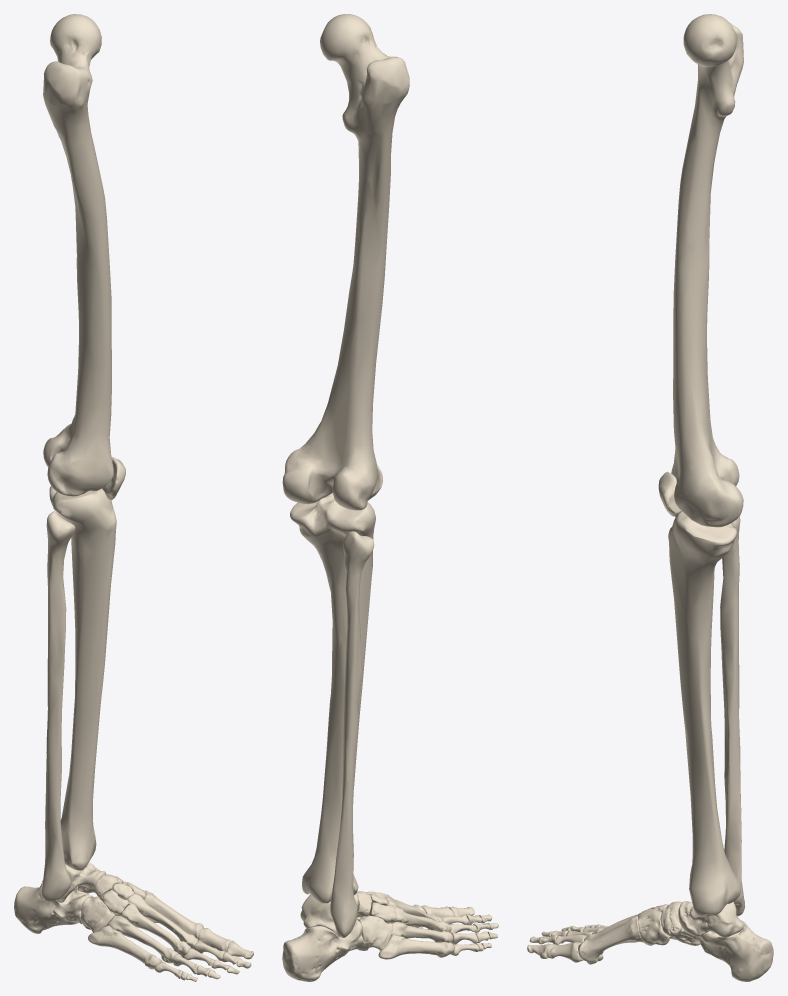
File: skeletal.lower_limb_right.glb
The picture shows the model from 3 angles, left to right: view 1: azimuth 90°, elevation 25°; view 2: azimuth 150°, elevation 25°; view 3: azimuth 270°, elevation 25°; orthographic projection. The views are drawn at different scales.
Parts seen in each view (by area): view 1: right_femur, right_tibia, right_fibula, right_calcaneus, right_fifth_metatarsal_bone, right_third_metatarsal_bone, right_fourth_metatarsal_bone, right_cuboid_bone, right_first_metatarsal_bone, right_second_metatarsal_bone, right_talus; view 2: right_femur, right_tibia, right_fibula, right_calcaneus, right_fifth_metatarsal_bone, right_cuboid_bone, right_talus, right_fourth_metatarsal_bone, right_third_metatarsal_bone; view 3: right_femur, right_tibia, right_fibula, right_calcaneus, right_talus, right_first_metatarsal_bone, right_medial_cuneiform_bone, right_patella, navicular_bone_of_right_foot.
Boxes of the visible parts, x1,y1,x2,y2 form: right_femur: [43, 14, 113, 496]; right_tibia: [49, 486, 116, 870]; right_fibula: [42, 511, 75, 901]; right_calcaneus: [14, 882, 93, 933]; right_fifth_metatarsal_bone: [88, 925, 162, 969]; right_third_metatarsal_bone: [120, 904, 190, 958]; right_fourth_metatarsal_bone: [107, 915, 178, 963]; right_cuboid_bone: [81, 896, 115, 932]; right_first_metatarsal_bone: [144, 890, 203, 939]; right_second_metatarsal_bone: [126, 893, 198, 949]; right_talus: [42, 862, 106, 902]; right_femur: [282, 14, 409, 510]; right_tibia: [290, 493, 375, 903]; right_fibula: [330, 531, 374, 938]; right_calcaneus: [282, 918, 363, 981]; right_fifth_metatarsal_bone: [378, 935, 454, 959]; right_cuboid_bone: [357, 915, 392, 950]; right_talus: [300, 893, 358, 936]; right_fourth_metatarsal_bone: [391, 922, 453, 942]; right_third_metatarsal_bone: [387, 907, 451, 932]; right_femur: [671, 14, 743, 527]; right_tibia: [668, 511, 740, 917]; right_fibula: [720, 516, 745, 916]; right_calcaneus: [697, 920, 773, 981]; right_talus: [678, 901, 744, 937]; right_first_metatarsal_bone: [578, 916, 643, 962]; right_medial_cuneiform_bone: [638, 909, 670, 945]; right_patella: [658, 471, 681, 516]; navicular_bone_of_right_foot: [660, 901, 684, 936].
Size of the model in its own units: 0.1376 by 0.9048 by 0.2122.
